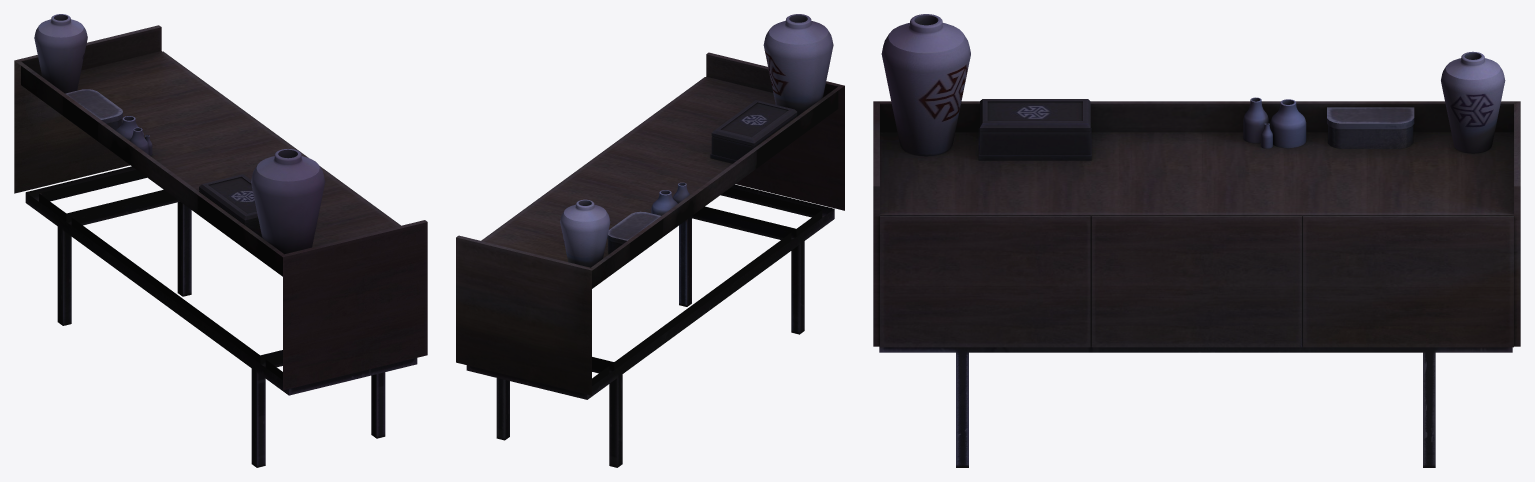
File: Desk2.obj
3 views of the same model, side by side, from view 1: azimuth 30°, elevation 25°; view 2: azimuth 150°, elevation 25°; view 3: azimuth 270°, elevation 25° (orthographic). The views are drawn at different scales.
Visible parts, largest first — view 1: Object_26; view 2: Object_26; view 3: Object_26.
Part boxes in pixels (box(x1,y1,x2,y2)): Object_26: box(14, 14, 427, 467); Object_26: box(456, 14, 844, 467); Object_26: box(873, 14, 1520, 467).
Bounding box in the file's own units: 0.5791 × 1.16 × 1.78.
1 material, 1 textured.
